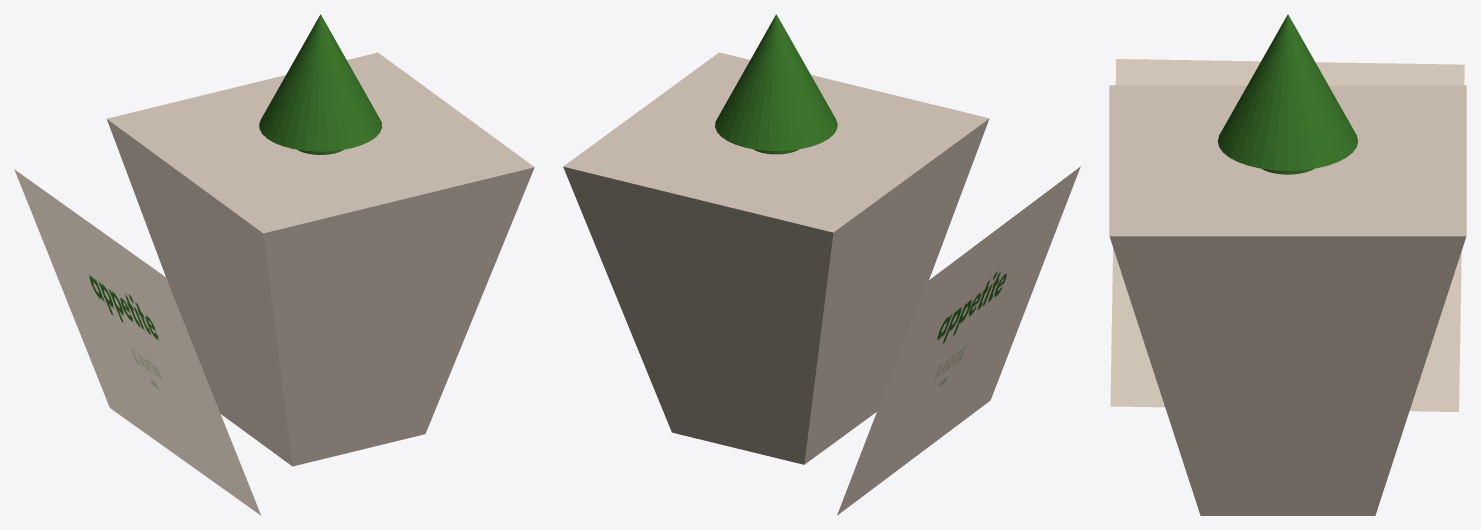
The model's file is appetite1.glb.
3 views of the same model, side by side, from view 1: azimuth 30°, elevation 25°; view 2: azimuth 150°, elevation 25°; view 3: azimuth 270°, elevation 25° (orthographic). The views are drawn at different scales.
Parts seen in each view (by area): view 1: Cube, appetite; view 2: Cube, appetite; view 3: Cube, appetite.
Part boxes in pixels (<box>): Cube: <box>107,14,534,466</box>; appetite: <box>14,169,260,515</box>; Cube: <box>563,14,989,464</box>; appetite: <box>837,166,1080,515</box>; Cube: <box>1109,14,1466,515</box>; appetite: <box>1110,59,1464,411</box>.
Size of the model in its own units: 4.59 by 4.99 by 3.41.
3 materials, 1 textured.
